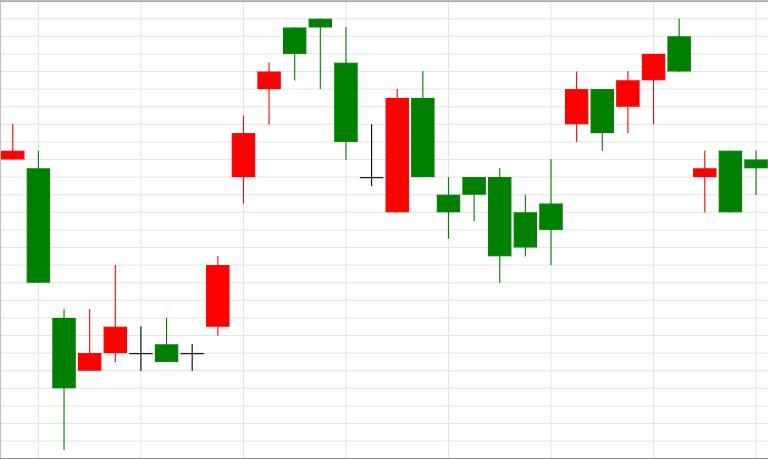hanging_man_fall: (487, 54, 666, 284)
